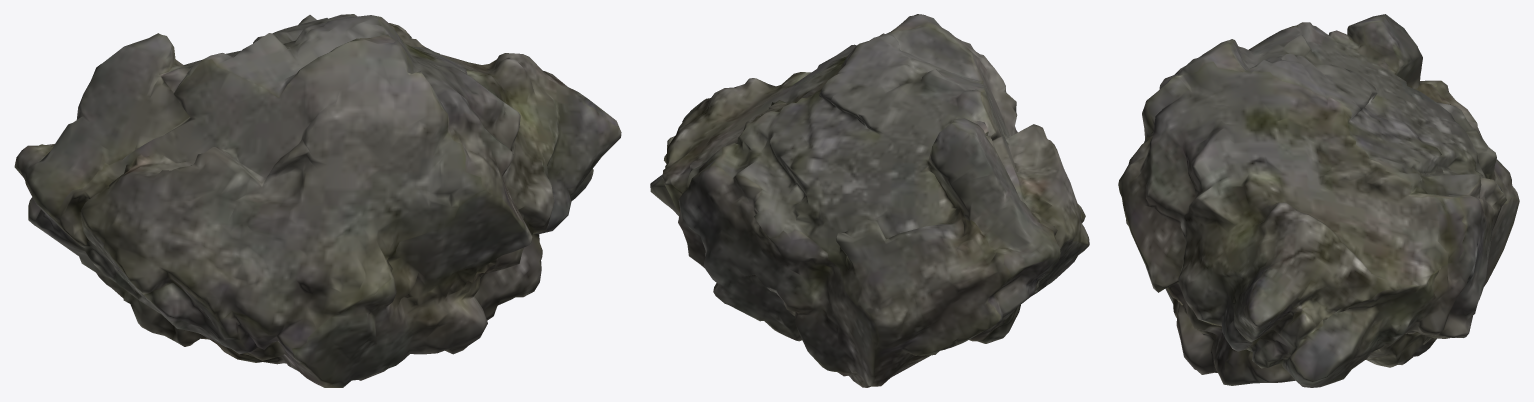
Rendered from SM_pal_b00_rock_MineableRocks_317dd8.glb.
The picture shows the model from 3 angles, left to right: view 1: azimuth 30°, elevation 25°; view 2: azimuth 150°, elevation 25°; view 3: azimuth 270°, elevation 25°; orthographic projection. The views are drawn at different scales.
Bounding box in the file's own units: 4.97 × 3.31 × 3.7.
Materials: 1 (1 with a texture image).
